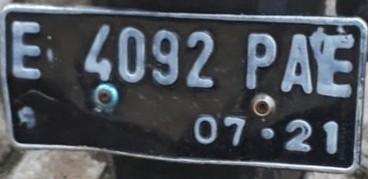0: (114, 23, 146, 84)
2: (180, 27, 224, 91)
4: (73, 21, 116, 83)
9: (144, 27, 184, 89)
A: (277, 31, 318, 96)
E: (316, 33, 358, 100), (9, 18, 46, 82)
P: (241, 31, 282, 92)
